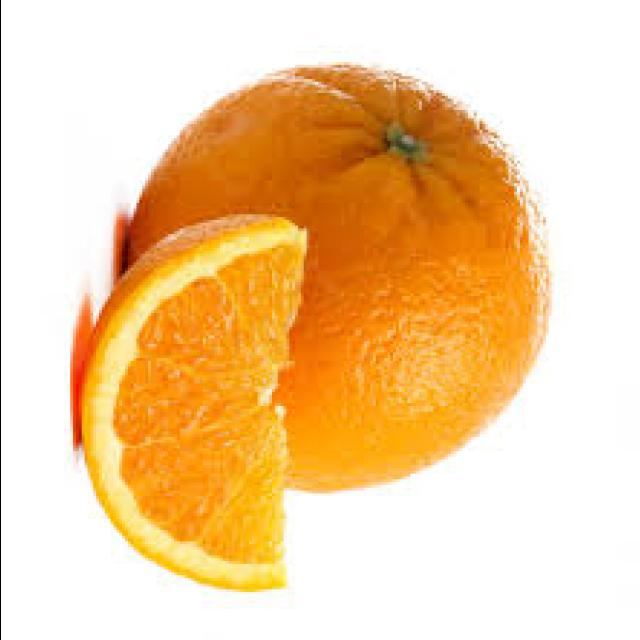orange: (126, 46, 552, 546)
